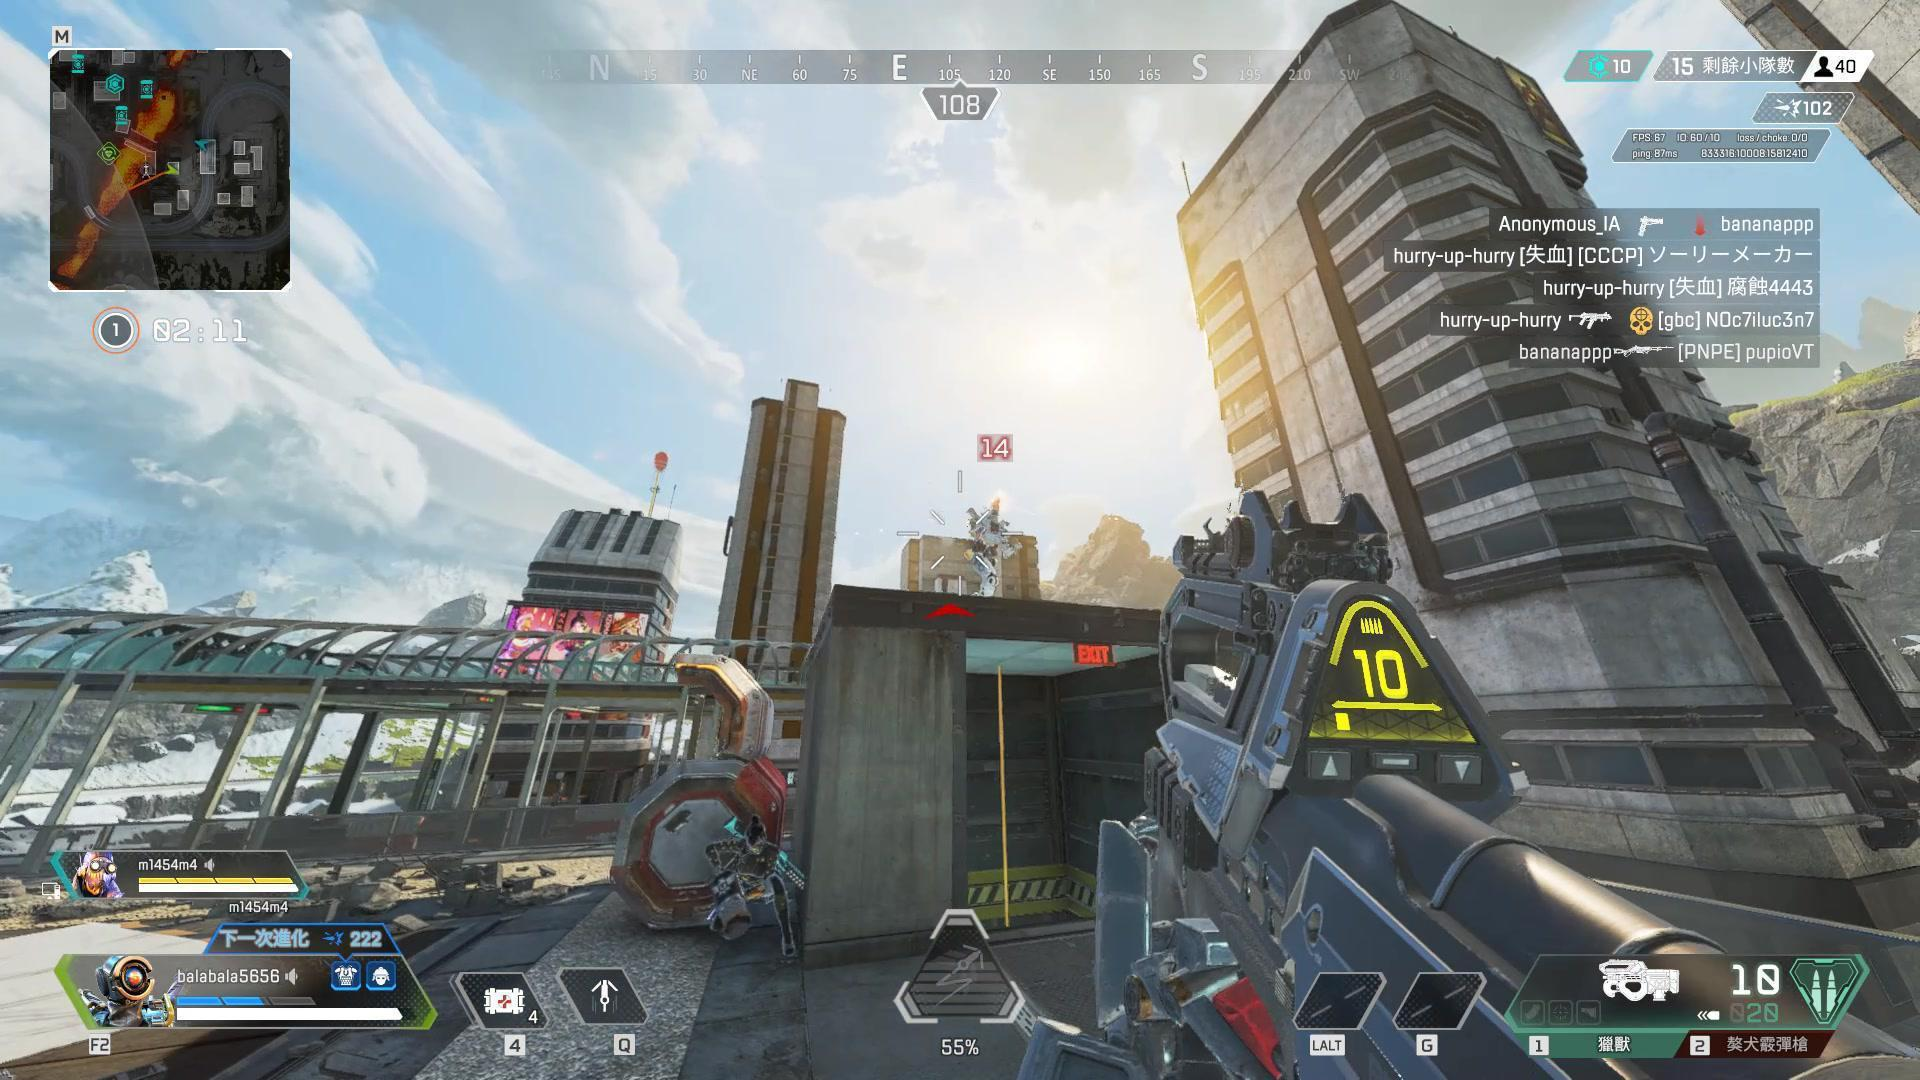avatar: (962, 498, 1022, 598)
